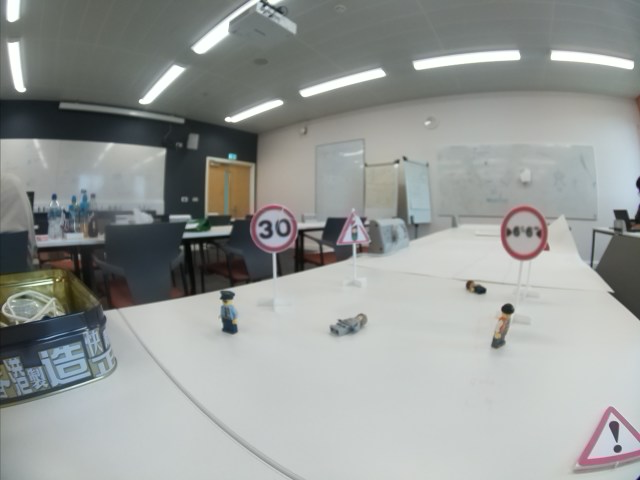30mph: (247, 204, 298, 255)
6ft6: (498, 205, 549, 261)
Lego Man: (491, 302, 518, 349), (216, 289, 240, 335), (327, 311, 370, 336), (463, 281, 490, 296)
Traffic lights: (335, 209, 374, 246)
Warning: (573, 404, 640, 471)
